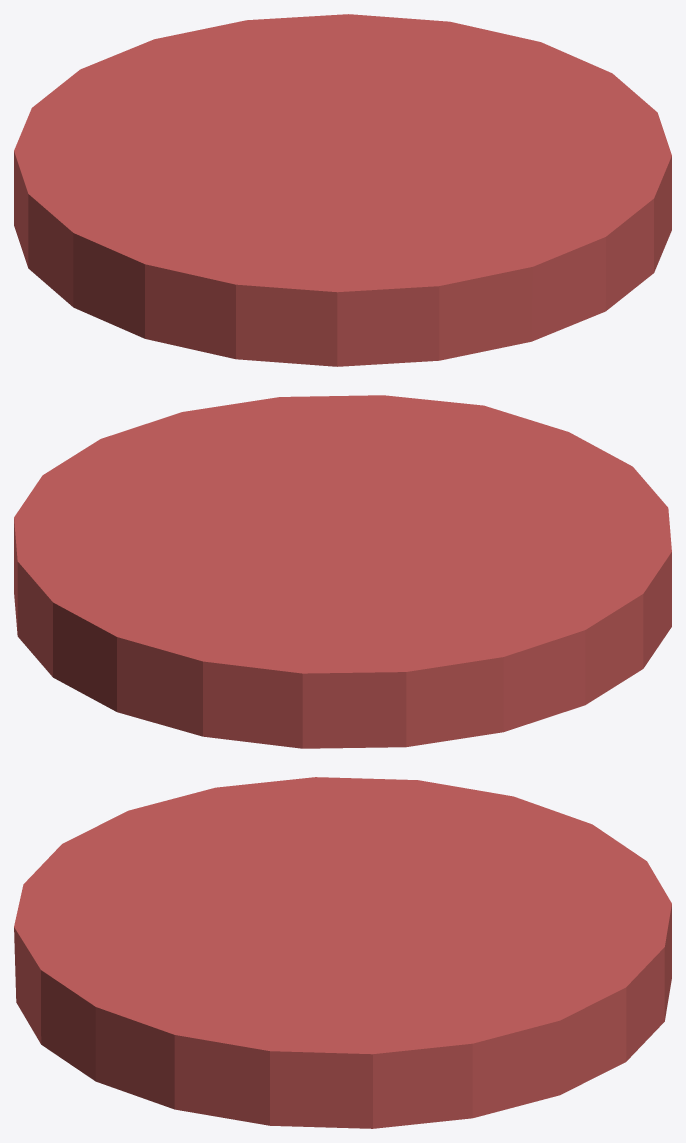
Rendered from SM_Burger_Raw.fbx.
The picture shows the model from 3 angles, top to bottom: view 1: azimuth 30°, elevation 25°; view 2: azimuth 150°, elevation 25°; view 3: azimuth 270°, elevation 25°; orthographic projection.
Visible parts, largest first — view 1: burger.003; view 2: burger.003; view 3: burger.003.
Part boxes in pixels (bbox=[...]): burger.003: bbox=[14, 14, 671, 366]; burger.003: bbox=[14, 395, 671, 748]; burger.003: bbox=[14, 777, 671, 1128].
Size of the model in its own units: 38.9 by 4.96 by 39.03.
